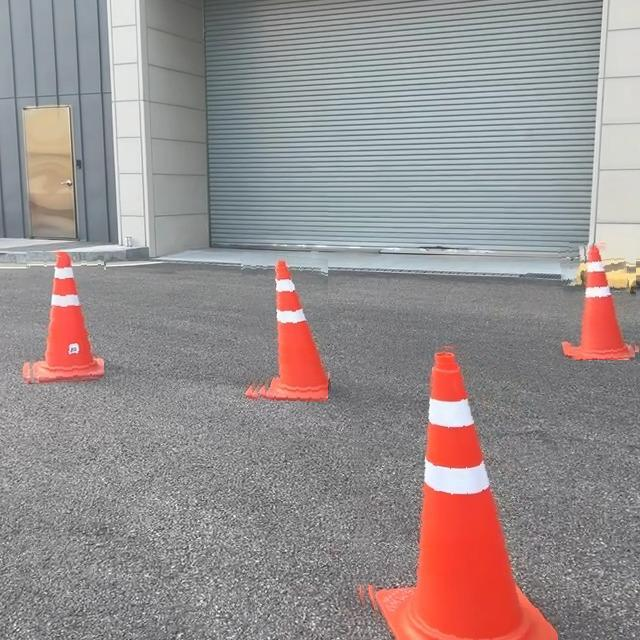fallen_object: (322, 325, 548, 634), (223, 210, 390, 440), (547, 225, 640, 445), (32, 220, 101, 410)
